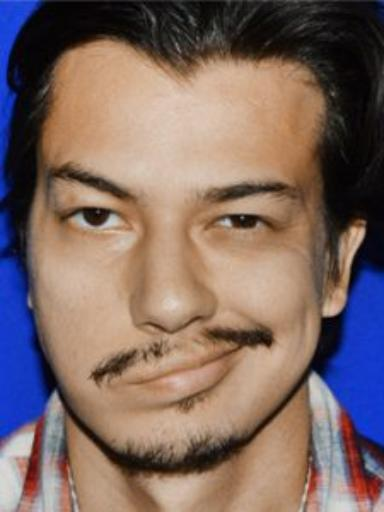left_eye: (201, 211, 283, 241)
left_lip_corner: (217, 342, 253, 362)
right_eye: (57, 204, 136, 238)
right_lip_corner: (119, 375, 145, 396)
